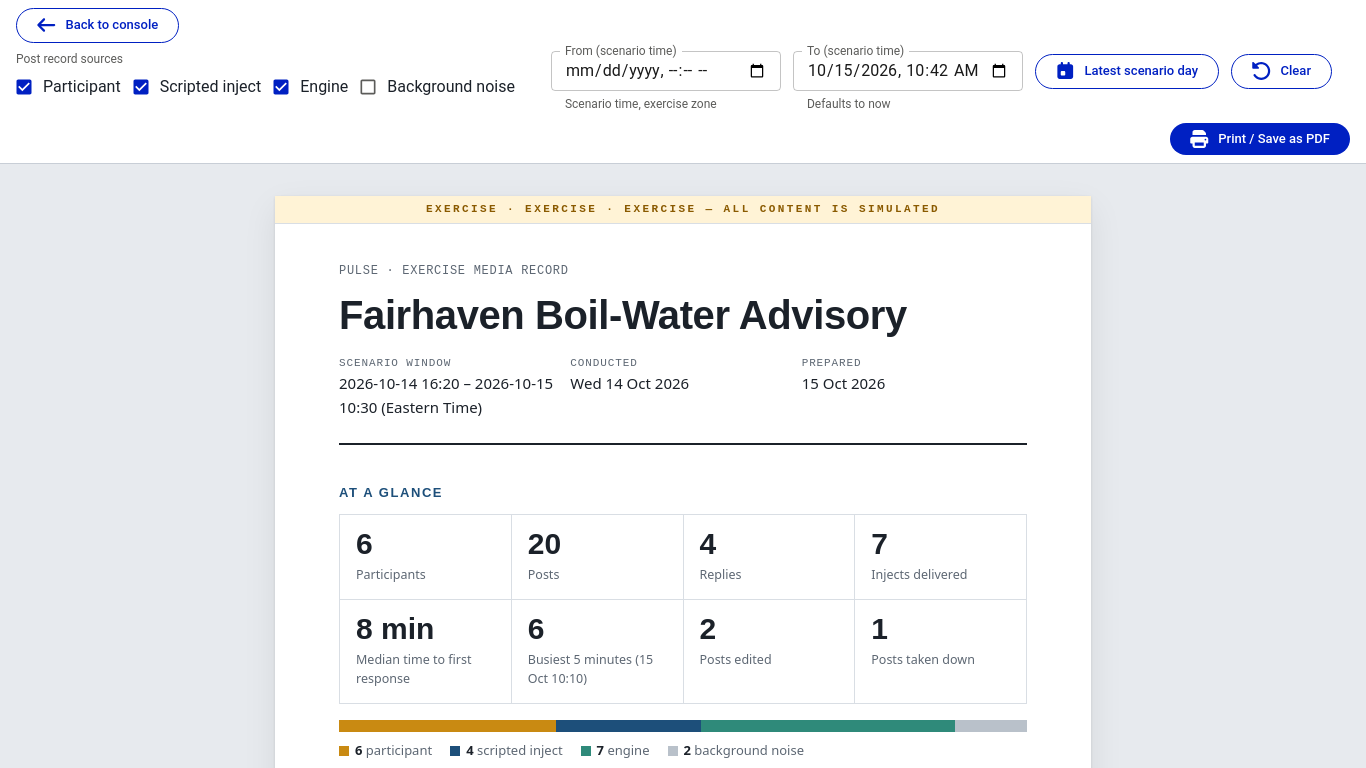
Test: ExerciseReportPage › story 30 filters › does not let the last source be unchecked
Click the checkbox labelled "Scripted inject": (196, 87) [131,77,261,97]
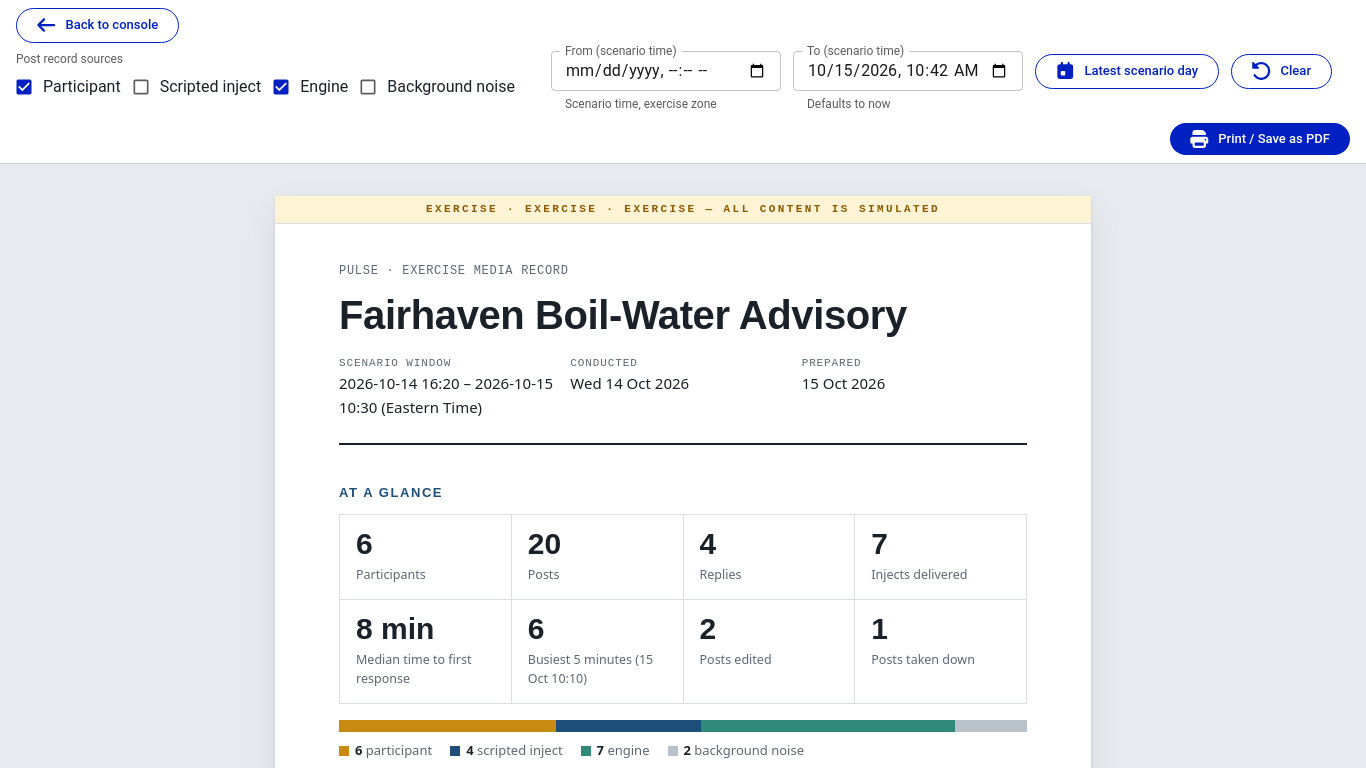
Click the checkbox labelled "Engine": (310, 87) [271,77,348,97]
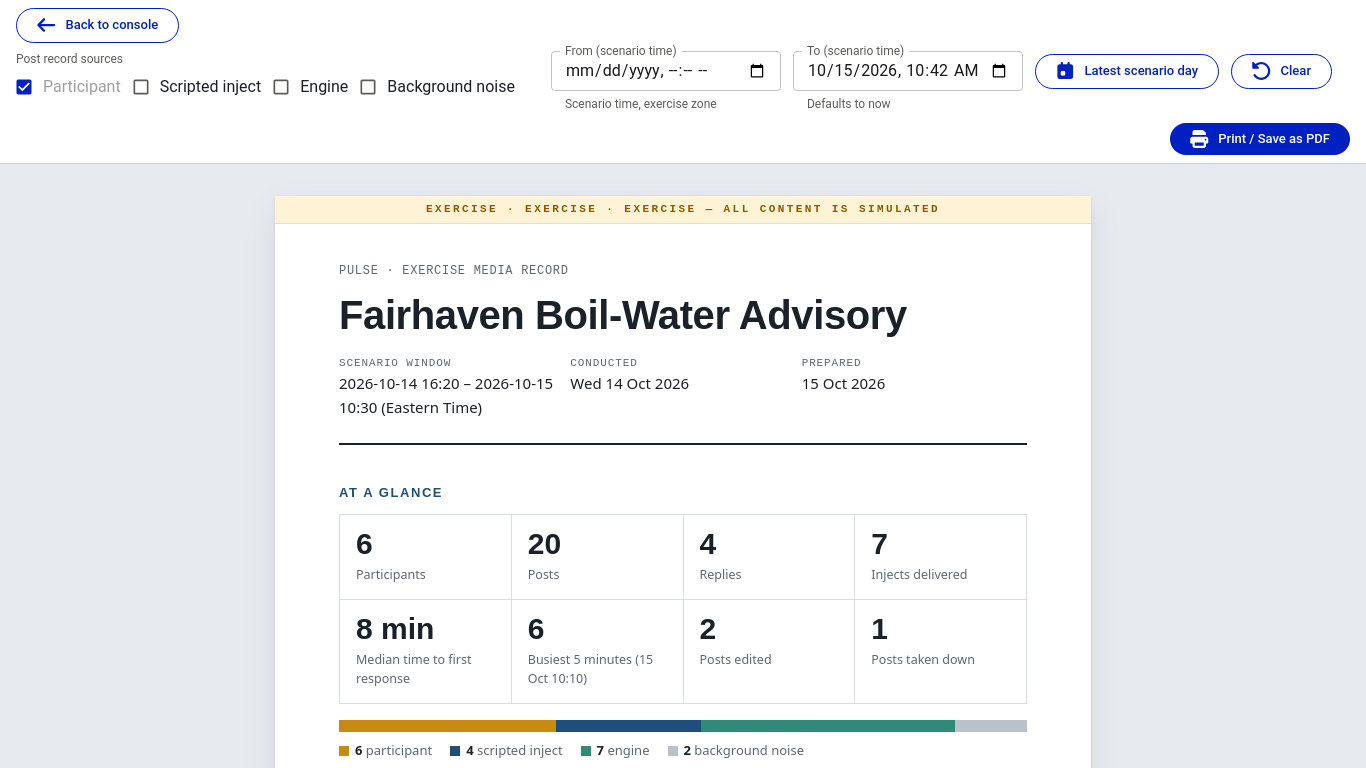
Expected: the checkbox labelled "Participant" is checked, [14,77,121,97]
Now the checkbox labelled "Participant" is disabled, box [14,77,121,97]
